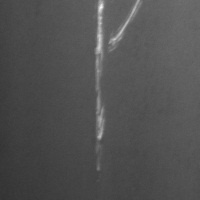scratches: (90, 0, 108, 177), (105, 0, 148, 56)
